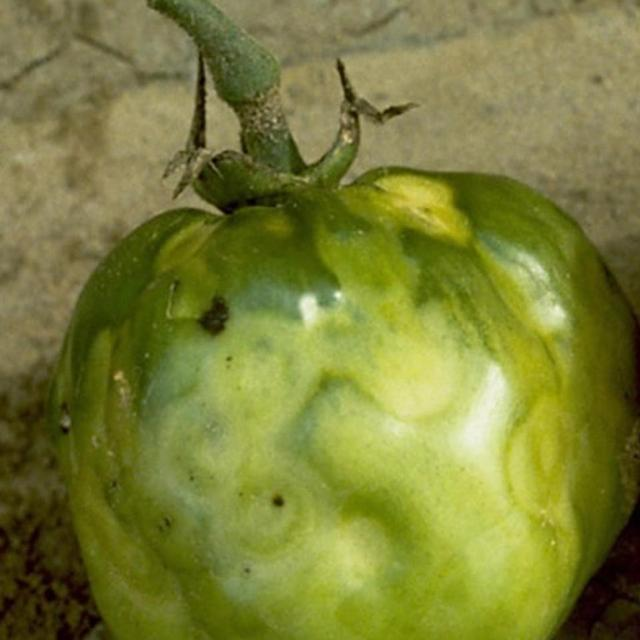Spotted wilt Virus Fruit: (214, 117, 639, 332)
